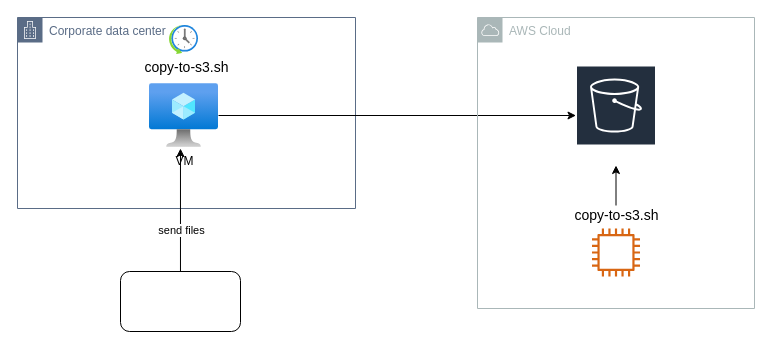
This 772x349 diagram has some shape labels left out. The shapes that lost their labels are listed below. From the top down, each one's centre as x and y in pixels, then its label:
At [615,115]: "Amazon S3".
At [180,301]: "Application".
